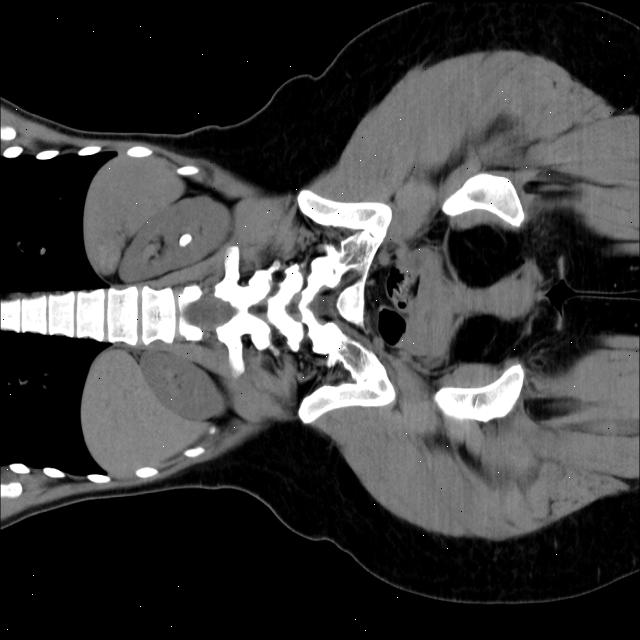kidneystone: (179, 233, 192, 246)
